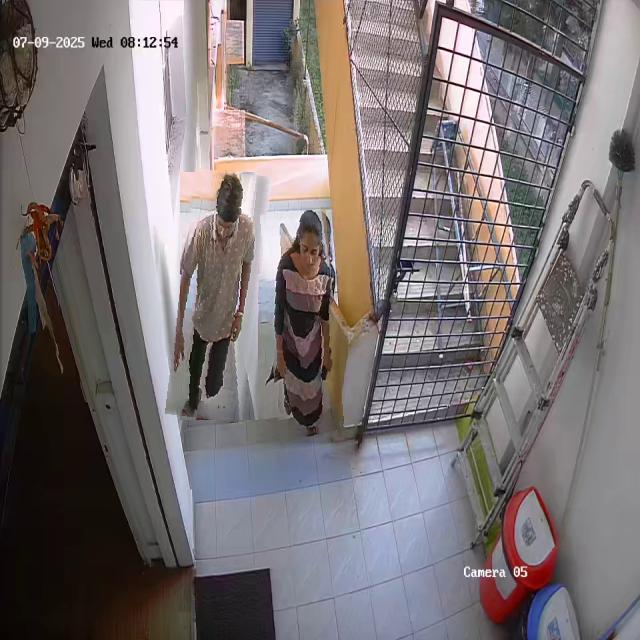person: (173, 170, 265, 422), (265, 210, 340, 440)
